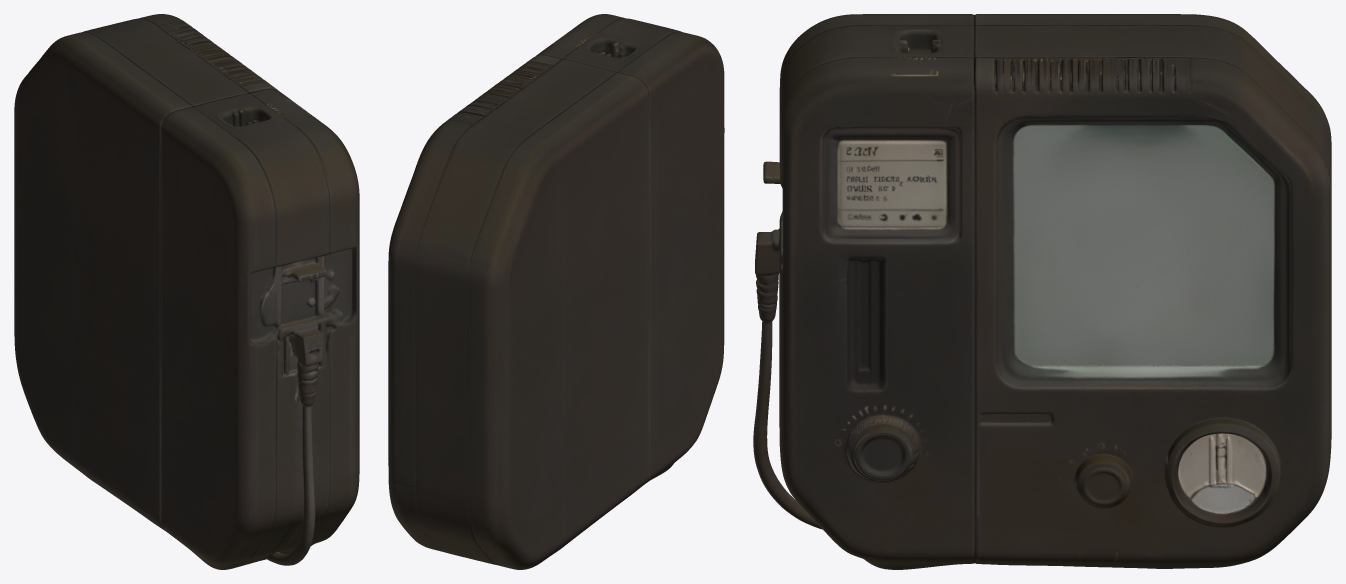
3 views of the same model, side by side, from view 1: azimuth 30°, elevation 25°; view 2: azimuth 150°, elevation 25°; view 3: azimuth 270°, elevation 25° (orthographic). The views are drawn at different scales.
Parts seen in each view (by area): view 1: tripo_node_f351fe58-d31c-4718-8cd4-49d1d969ffc2; view 2: tripo_node_f351fe58-d31c-4718-8cd4-49d1d969ffc2; view 3: tripo_node_f351fe58-d31c-4718-8cd4-49d1d969ffc2.
Part boxes in pixels (x1,y1,x2,y2): tripo_node_f351fe58-d31c-4718-8cd4-49d1d969ffc2: (14, 14, 359, 569); tripo_node_f351fe58-d31c-4718-8cd4-49d1d969ffc2: (388, 14, 724, 569); tripo_node_f351fe58-d31c-4718-8cd4-49d1d969ffc2: (753, 14, 1331, 569).
Size of the model in its own units: 0.3217 by 0.9643 by 1.
Materials: 1 (1 with a texture image).
